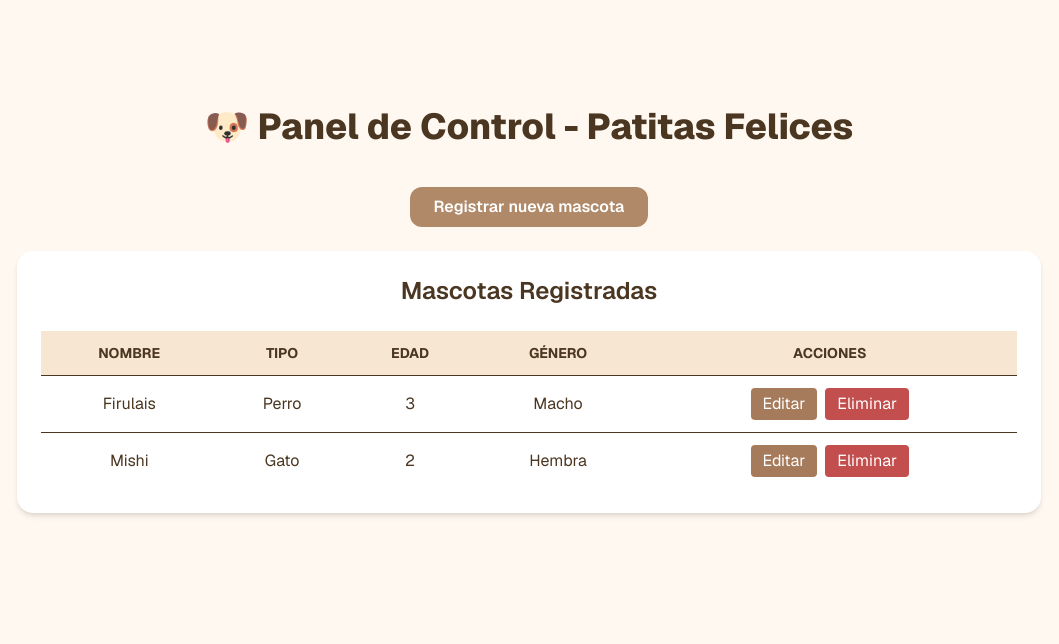
MascotasPage › alternar formulario con el botón cuando hay mascotas
Click the button "Registrar nueva mascota".
click(529, 207)  # box [410,187,648,227]
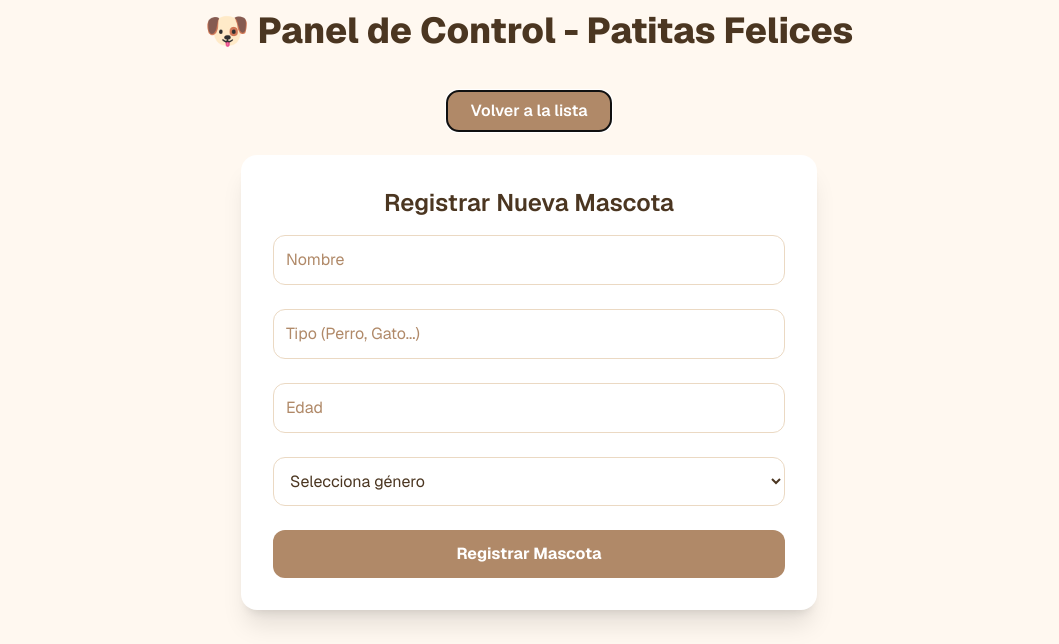
Check: the button "Registrar Mascota" is shown, box [273,530,785,578]
// Volver a la lista
Click the button "Volver a la lista".
click(529, 110)  # box [446,90,611,130]
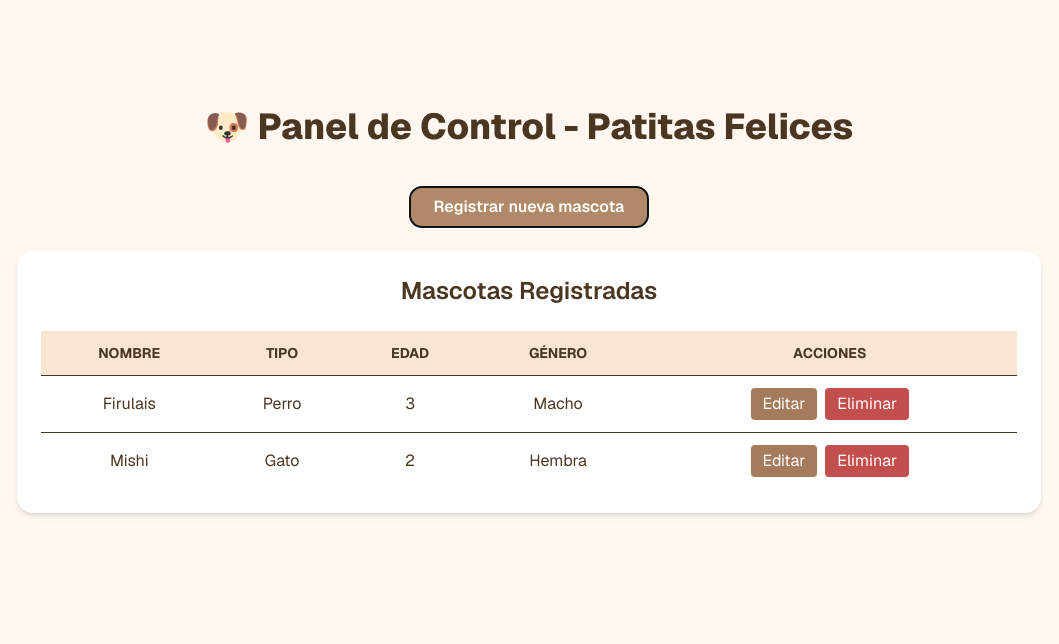
Check: the table is shown, box [41,331,1017,489]
